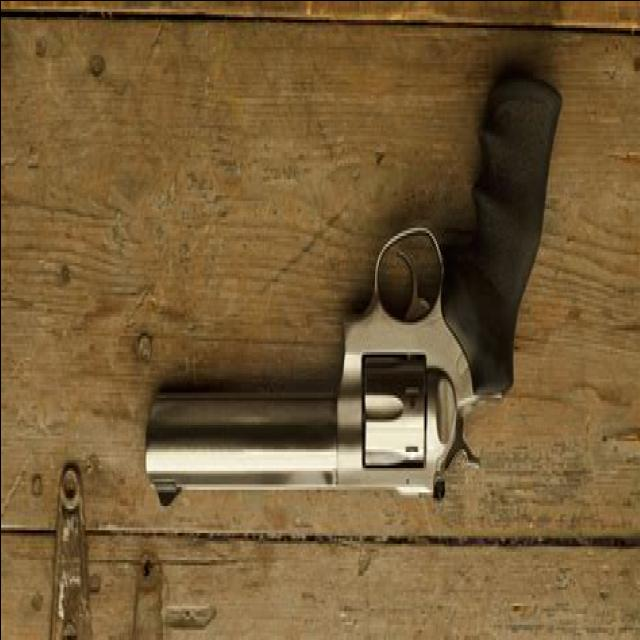weapons: (110, 49, 566, 525)
